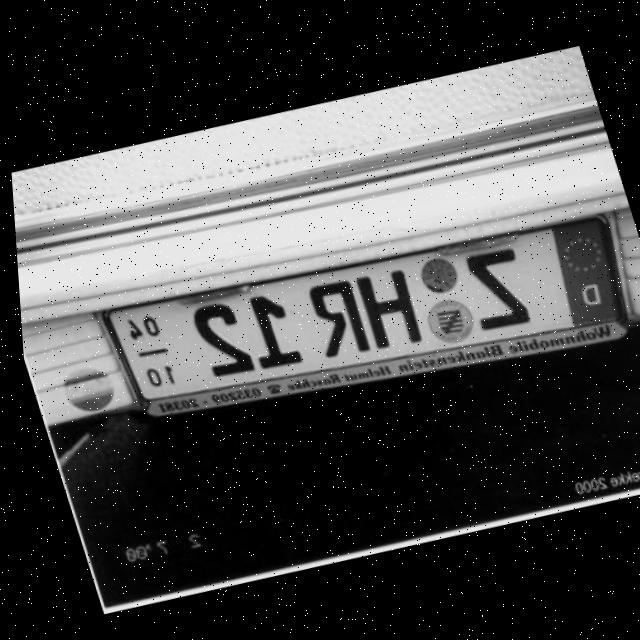license-plates: (106, 217, 626, 417)
